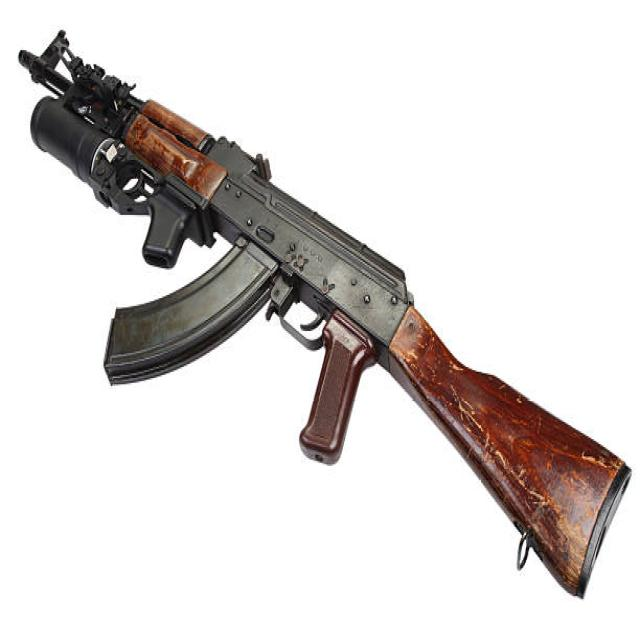rifle: (20, 22, 639, 611)
